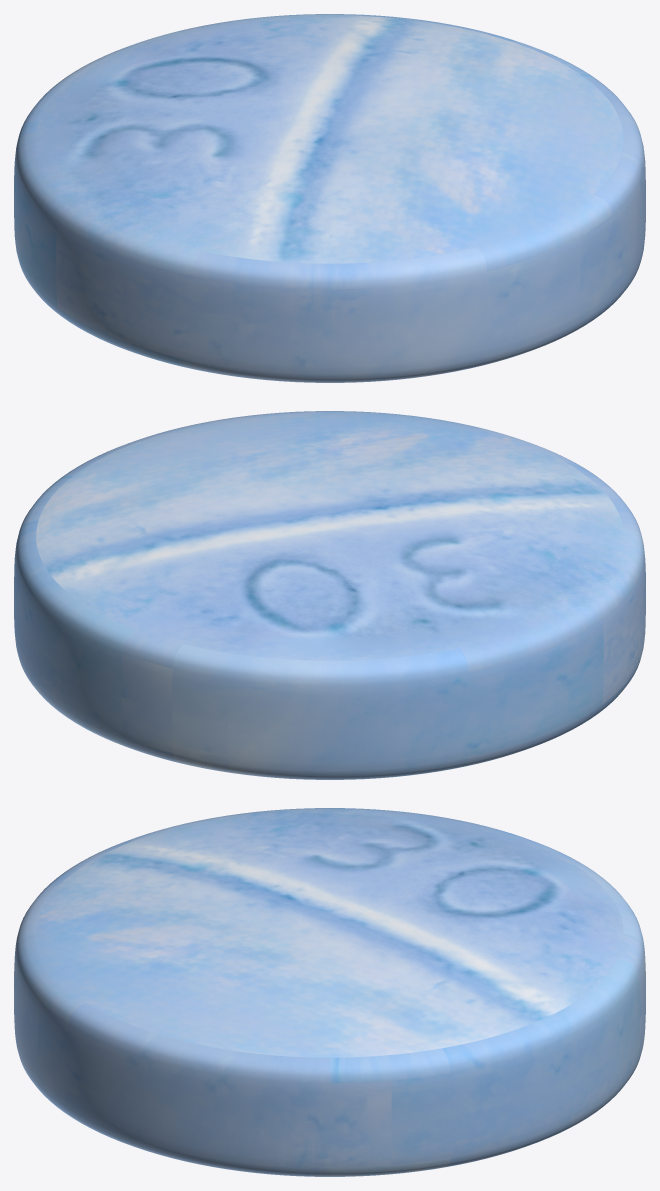
File: pilltablet.glb
The picture shows the model from 3 angles, top to bottom: view 1: azimuth 30°, elevation 25°; view 2: azimuth 150°, elevation 25°; view 3: azimuth 270°, elevation 25°; orthographic projection.
Parts seen in each view (by area): view 1: Object_2; view 2: Object_2; view 3: Object_2.
Part boxes in pixels (x1,y1,x2,y2): Object_2: (14,14,645,382); Object_2: (14,411,645,779); Object_2: (14,808,645,1176).
Size of the model in its own units: 1.99 by 0.557 by 1.99.
Materials: 1 (1 with a texture image).
